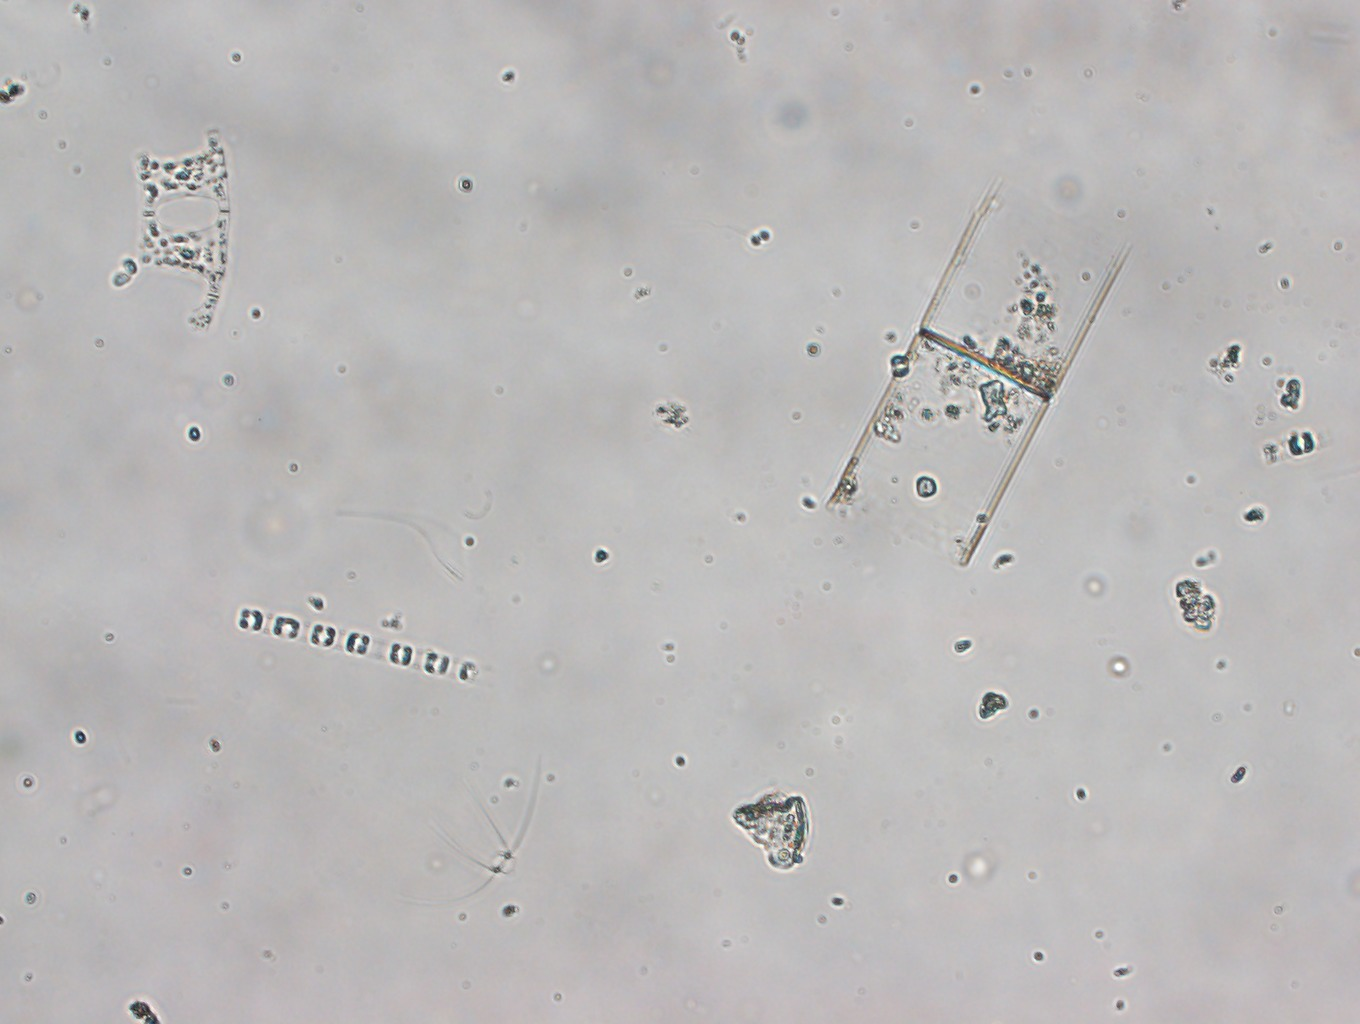eucampia: (109, 127, 230, 333)
guinardia flaccida: (825, 179, 1133, 568)
skeletonema: (235, 602, 481, 686)
